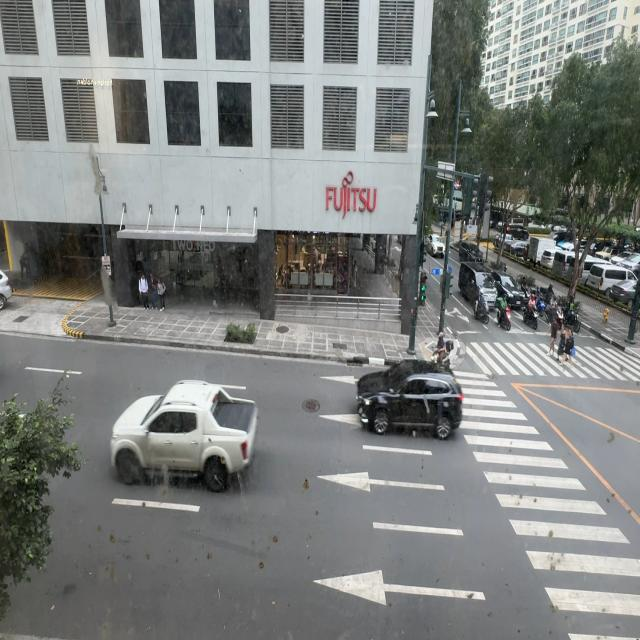crossing: (557, 325, 573, 367), (548, 313, 561, 356)
pedestrain: (139, 272, 149, 310)
